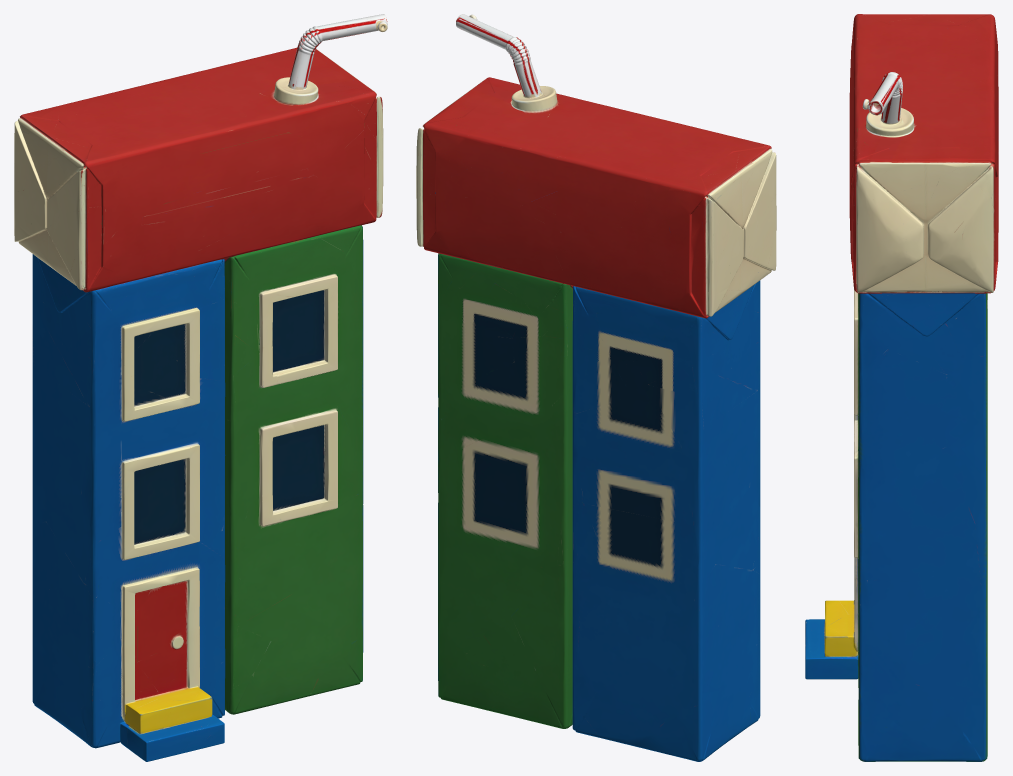
File: meshy.glb
3 views of the same model, side by side, from view 1: azimuth 30°, elevation 25°; view 2: azimuth 150°, elevation 25°; view 3: azimuth 270°, elevation 25° (orthographic). The views are drawn at different scales.
Size of the model in its own units: 0.9592 by 1.9 by 0.491.
1 material, 1 textured.
